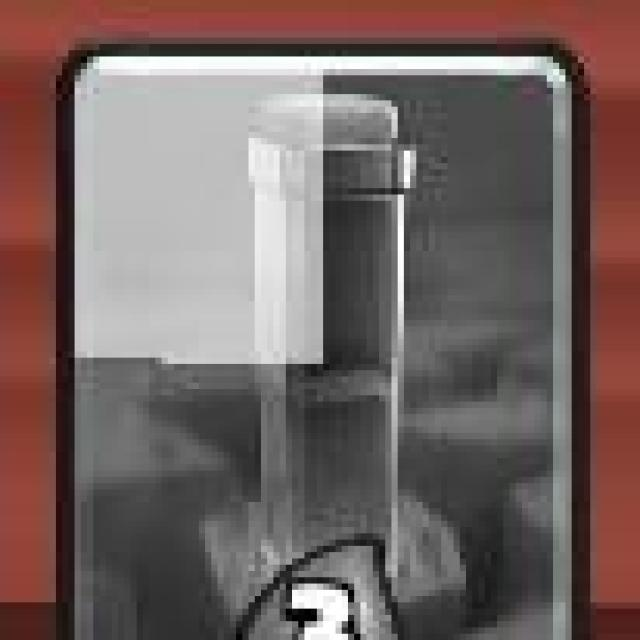Earthquake: (53, 33, 594, 640)
